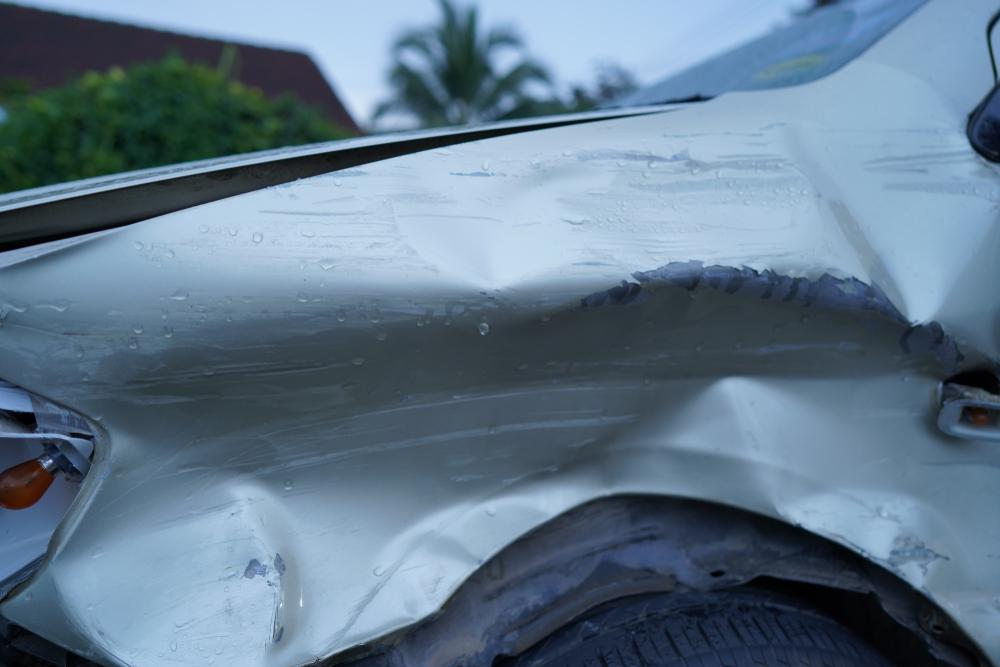dent: (60, 66, 1000, 667)
lamp broken: (0, 390, 98, 585)
